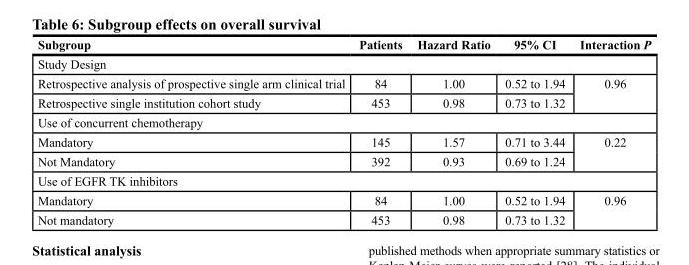table: (36, 37, 650, 226)
table column: (36, 37, 351, 226), (409, 37, 496, 226), (571, 37, 650, 226), (496, 37, 571, 226), (351, 37, 409, 226)
table column header: (36, 37, 650, 53)
table projected row header: (36, 53, 650, 73), (36, 170, 650, 190), (36, 112, 650, 131)
table row: (36, 53, 650, 73), (36, 92, 650, 112), (36, 131, 650, 151), (36, 170, 650, 190), (36, 73, 650, 92), (36, 112, 650, 131), (36, 151, 650, 170), (36, 190, 650, 209), (36, 209, 650, 226), (36, 37, 650, 53)
table spanning cell: (571, 73, 650, 112), (571, 131, 650, 170), (571, 190, 650, 226)
